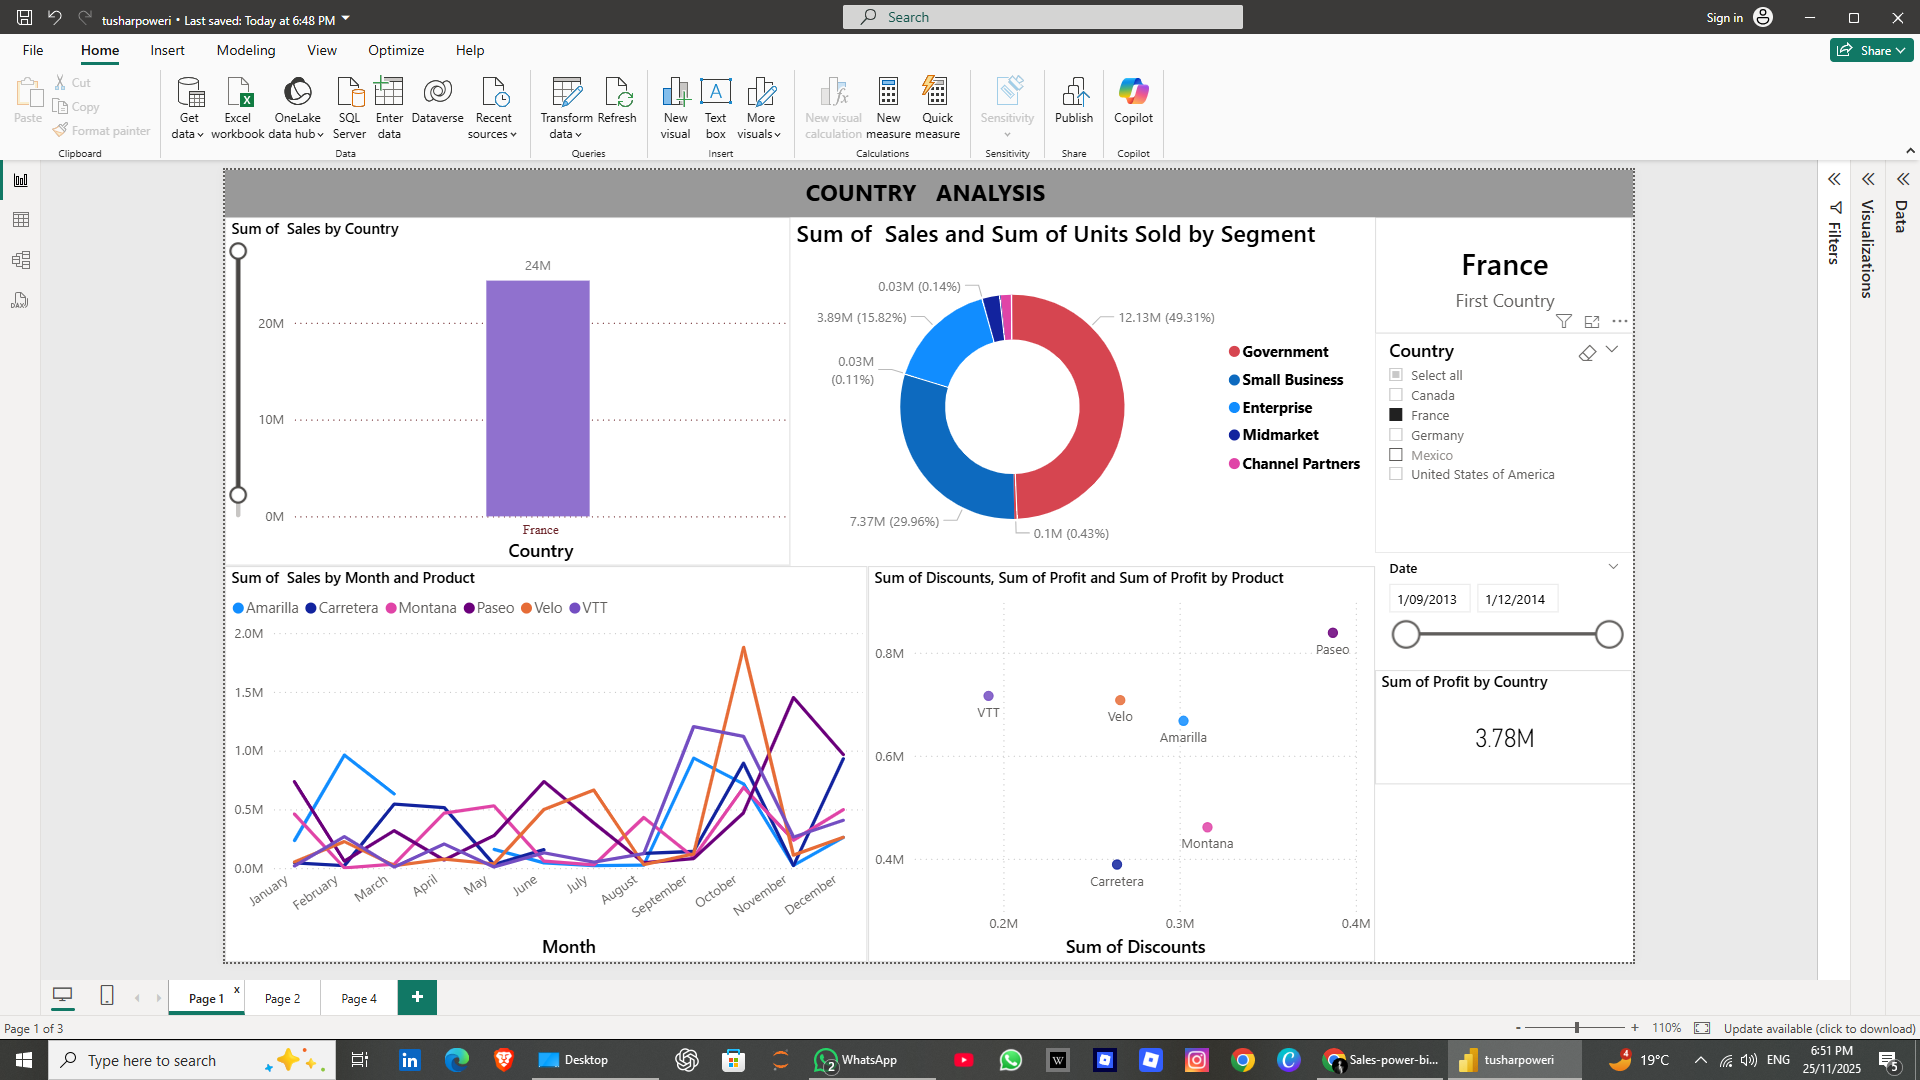

This screenshot's page, from the dashboard's own definition file:
{"tool":"powerbi","page":{"name":"Page 1","canvas":[1280,720],"ordinal":0},"visuals":[{"type":"columnChart","fields":{"Category":["financials.Country"],"Y":["select","Sum(financials. Sales)"]},"box":[0,42.9,514.3,317.1],"z":0},{"type":"donutChart","fields":{"Y":["Sum(financials. Sales)","Sum(financials.Units Sold)"],"Category":["financials.Segment"]},"box":[514.3,42.9,531.4,317.1],"z":1000},{"type":"lineChart","fields":{"Category":["financials.Date.Variation.Date Hierarchy.Year","financials.Date.Variation.Date Hierarchy.Quarter","financials.Date.Variation.Date Hierarchy.Month","financials.Date.Variation.Date Hierarchy.Day"],"Y":["Sum(financials. Sales)"],"Series":["financials.Product"]},"box":[0,360,584.3,360],"z":2000},{"type":"scatterChart","fields":{"Category":["financials.Product"],"X":["Sum(financials.Discounts)"],"Y":["Sum(financials.Profit)"]},"box":[584.3,360,461.4,360],"z":3000},{"type":"card","fields":{"Values":["Min(financials.Country)"]},"box":[1045.7,42.9,234.3,105.7],"z":4000},{"type":"slicer","fields":{"Values":["financials.Date"]},"box":[1045.7,348.6,234.3,105.7],"z":5000},{"type":"textbox","box":[0,0,1280,42.9],"z":6000},{"type":"slicer","fields":{"Values":["financials.Country"]},"box":[1045.7,148.6,234.3,200],"z":7000},{"type":"kpi","fields":{"TrendLine":["financials.Country"],"Indicator":["Sum(financials.Profit)"]},"box":[1045.7,454.3,234.3,104.3],"z":8000}]}

Visuals, with their boxes on the page's 1280x720 design canvas (x1, y1, x2, y2). These are canvas units, not pixel positions in the 1920x1080 screenshot, which may show the page scaled, cropped or inside an application window:
columnChart - financials.Country x select: x1=0, y1=43, x2=514, y2=360
donutChart - Sum(financials. Sales) x Sum(financials.Units Sold): x1=514, y1=43, x2=1046, y2=360
lineChart - financials.Date.Variation.Date Hierarchy.Year x financials.Date.Variation.Date Hierarchy.Quarter: x1=0, y1=360, x2=584, y2=720
scatterChart - financials.Product x Sum(financials.Discounts): x1=584, y1=360, x2=1046, y2=720
card - Min(financials.Country): x1=1046, y1=43, x2=1280, y2=149
slicer - financials.Date: x1=1046, y1=349, x2=1280, y2=454
textbox: x1=0, y1=0, x2=1280, y2=43
slicer - financials.Country: x1=1046, y1=149, x2=1280, y2=349
kpi - financials.Country x Sum(financials.Profit): x1=1046, y1=454, x2=1280, y2=559
